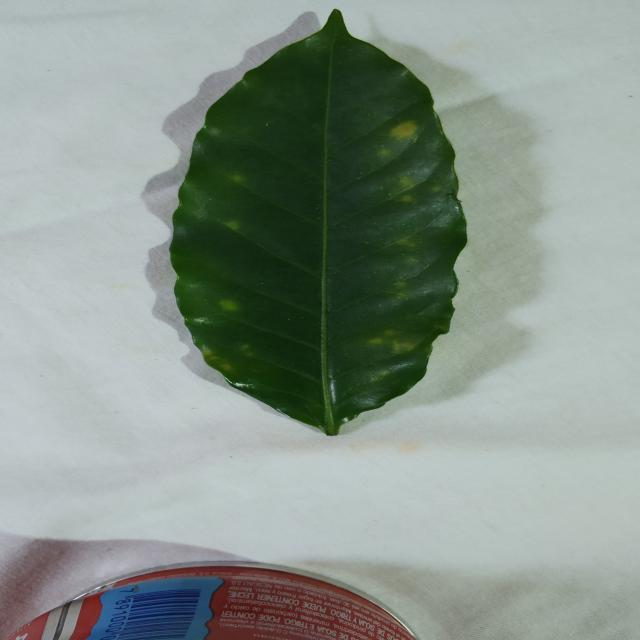Enfermedad-Roya: (168, 13, 469, 439)
